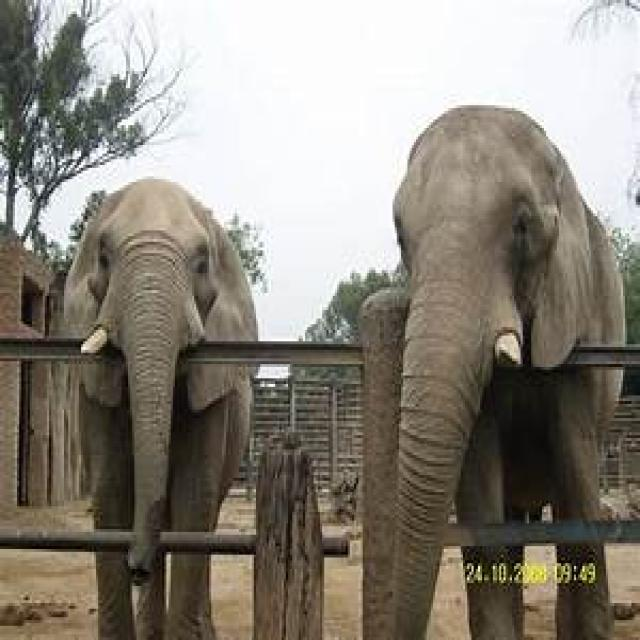elephant: (363, 105, 627, 640), (60, 179, 258, 640)
